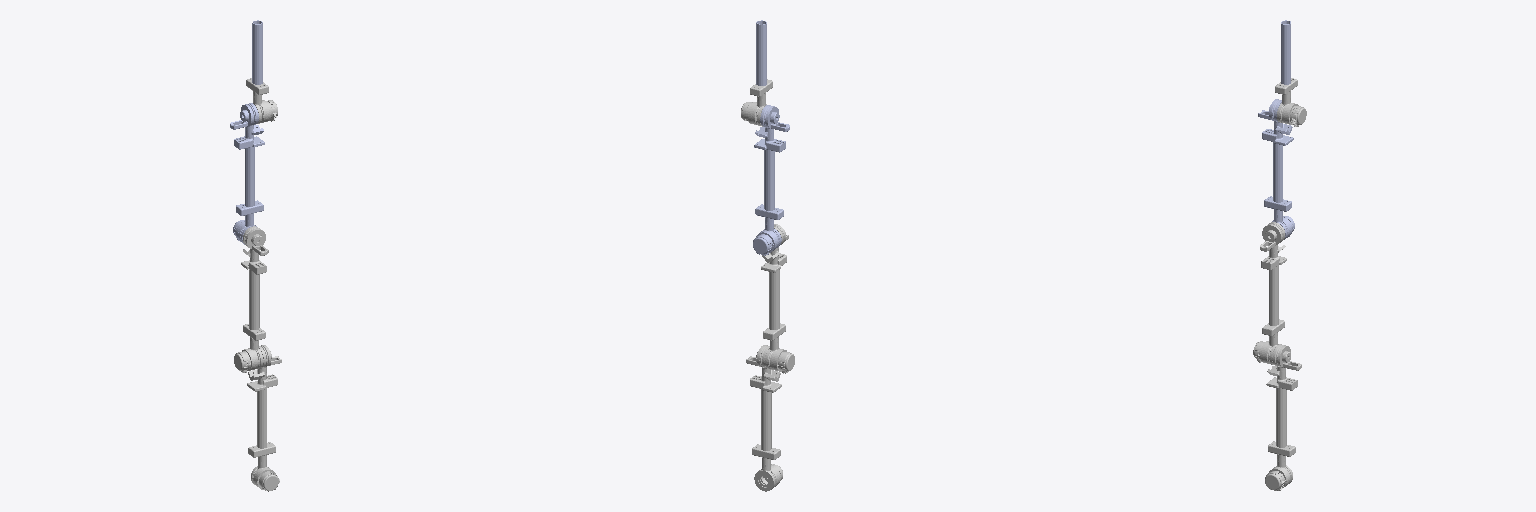
URDF robot description (out2):
<robot
  name="out2">
  <link
    name="base_link">
    <inertial>
      <origin
        xyz="3.81830135287586E-07 0.000490233160051715 0.0680911726169037"
        rpy="0 0 0" />
      <mass
        value="0.0392655917096801" />
      <inertia
        ixx="9.43410382858083E-05"
        ixy="-1.44041094435164E-10"
        ixz="-5.32973135063326E-10"
        iyy="9.35104576671302E-05"
        iyz="-7.06820587107806E-07"
        izz="4.67523617248987E-06" />
    </inertial>
    <visual>
      <origin
        xyz="0 0 0"
        rpy="0 0 0" />
      <geometry>
        <mesh
          filename="package://out2/meshes/base_link.STL" />
      </geometry>
      <material
        name="">
        <color
          rgba="0.792156862745098 0.819607843137255 0.933333333333333 1" />
      </material>
    </visual>
    <collision>
      <origin
        xyz="0 0 0"
        rpy="0 0 0" />
      <geometry>
        <mesh
          filename="package://out2/meshes/base_link.STL" />
      </geometry>
    </collision>
  </link>
  <link
    name="l1">
    <inertial>
      <origin
        xyz="-0.0775363356468722 0.000422757078719242 0.0209719220698855"
        rpy="0 0 0" />
      <mass
        value="0.0481140132679658" />
      <inertia
        ixx="4.25376178264651E-06"
        ixy="9.89719233172601E-07"
        ixz="-3.66991350194768E-06"
        iyy="0.000166336706299027"
        iyz="6.6021107795002E-09"
        izz="0.000167508840406389" />
    </inertial>
    <visual>
      <origin
        xyz="0 0 0"
        rpy="0 0 0" />
      <geometry>
        <mesh
          filename="package://out2/meshes/l1.STL" />
      </geometry>
      <material
        name="">
        <color
          rgba="0.847058823529412 0.847058823529412 0.847058823529412 1" />
      </material>
    </visual>
    <collision>
      <origin
        xyz="0 0 0"
        rpy="0 0 0" />
      <geometry>
        <mesh
          filename="package://out2/meshes/l1.STL" />
      </geometry>
    </collision>
  </link>
  <joint
    name="j1"
    type="fixed">
    <origin
      xyz="0 0.00948960000093205 0.124300000000103"
      rpy="1.5707963267949 1.5707963267949 0" />
    <parent
      link="base_link" />
    <child
      link="l1" />
    <axis
      xyz="0 0 0" />
  </joint>
  <link
    name="l2">
    <inertial>
      <origin
        xyz="-0.0775266421097145 0.00040698713081562 0.0209719226551794"
        rpy="0 0 0" />
      <mass
        value="0.048114013091611" />
      <inertia
        ixx="4.24702973489523E-06"
        ixy="1.05106797568013E-06"
        ixz="-3.67698119293867E-06"
        iyy="0.000166415860643582"
        iyz="1.81256684874256E-08"
        izz="0.000167581262863039" />
    </inertial>
    <visual>
      <origin
        xyz="0 0 0"
        rpy="0 0 0" />
      <geometry>
        <mesh
          filename="package://out2/meshes/l2.STL" />
      </geometry>
      <material
        name="">
        <color
          rgba="0.847058823529412 0.847058823529412 0.847058823529412 1" />
      </material>
    </visual>
    <collision>
      <origin
        xyz="0 0 0"
        rpy="0 0 0" />
      <geometry>
        <mesh
          filename="package://out2/meshes/l2.STL" />
      </geometry>
    </collision>
  </link>
  <joint
    name="j2"
    type="fixed">
    <origin
      xyz="-0.152400000000055 0.00948960000012492 0.0199895999994416"
      rpy="1.57079632677987 6.81298260196904E-18 4.58383439686871E-17" />
    <parent
      link="l1" />
    <child
      link="l2" />
    <axis
      xyz="0 0 0" />
  </joint>
  <link
    name="l3">
    <inertial>
      <origin
        xyz="0.077526636321468 -0.000406452303621498 0.0209719515362998"
        rpy="0 0 0" />
      <mass
        value="0.0481140130743189" />
      <inertia
        ixx="4.24699051210553E-06"
        ixy="1.05330102905974E-06"
        ixz="3.67688985446539E-06"
        iyy="0.00016641680669748"
        iyz="-1.85466771433333E-08"
        izz="0.000167582176419347" />
    </inertial>
    <visual>
      <origin
        xyz="0 0 0"
        rpy="0 0 0" />
      <geometry>
        <mesh
          filename="package://out2/meshes/l3.STL" />
      </geometry>
      <material
        name="">
        <color
          rgba="0.792156862745098 0.819607843137255 0.933333333333333 1" />
      </material>
    </visual>
    <collision>
      <origin
        xyz="0 0 0"
        rpy="0 0 0" />
      <geometry>
        <mesh
          filename="package://out2/meshes/l3.STL" />
      </geometry>
    </collision>
  </link>
  <joint
    name="j3"
    type="fixed">
    <origin
      xyz="-0.152400000000286 0.00948960000089014 0.0199896000011297"
      rpy="-1.57079632680991 4.58383439548628E-17 3.14159265358979" />
    <parent
      link="l2" />
    <child
      link="l3" />
    <axis
      xyz="0 0 0" />
  </joint>
  <link
    name="l4">
    <inertial>
      <origin
        xyz="-0.0186830493415796 -6.20813135235876E-05 0.022135458347231"
        rpy="0 0 0" />
      <mass
        value="0.0220182823322274" />
      <inertia
        ixx="1.98116592302733E-06"
        ixy="1.08305327617486E-08"
        ixz="-8.92033835283855E-07"
        iyy="8.70461098190497E-06"
        iyz="8.64734798578683E-09"
        izz="9.07949191695857E-06" />
    </inertial>
    <visual>
      <origin
        xyz="0 0 0"
        rpy="0 0 0" />
      <geometry>
        <mesh
          filename="package://out2/meshes/l4.STL" />
      </geometry>
      <material
        name="">
        <color
          rgba="0.847058823529412 0.847058823529412 0.847058823529412 1" />
      </material>
    </visual>
    <collision>
      <origin
        xyz="0 0 0"
        rpy="0 0 0" />
      <geometry>
        <mesh
          filename="package://out2/meshes/l4.STL" />
      </geometry>
    </collision>
  </link>
  <joint
    name="j4"
    type="fixed">
    <origin
      xyz="0.152399999999532 -0.00948959999811314 0.0199896000001312"
      rpy="1.5707963267949 9.27091432324333E-16 3.14159265358979" />
    <parent
      link="l3" />
    <child
      link="l4" />
    <axis
      xyz="0 0 0" />
  </joint>
  <link
    name="l5">
    <inertial>
      <origin
        xyz="-0.0762000000004666 1.17961196366423E-16 0.0199896000000001"
        rpy="0 0 0" />
      <mass
        value="0.00263328296223896" />
      <inertia
        ixx="8.03151303482884E-08"
        ixy="8.94418173979679E-22"
        ixz="2.14569496371279E-22"
        iyy="1.31432419211271E-06"
        iyz="6.80873041709125E-25"
        izz="1.31432419211271E-06" />
    </inertial>
    <visual>
      <origin
        xyz="0 0 0"
        rpy="0 0 0" />
      <geometry>
        <mesh
          filename="package://out2/meshes/l5.STL" />
      </geometry>
      <material
        name="">
        <color
          rgba="0.792156862745098 0.819607843137255 0.933333333333333 1" />
      </material>
    </visual>
    <collision>
      <origin
        xyz="0 0 0"
        rpy="0 0 0" />
      <geometry>
        <mesh
          filename="package://out2/meshes/l5.STL" />
      </geometry>
    </collision>
  </link>
  <joint
    name="g5"
    type="fixed">
    <origin
      xyz="0 0 0"
      rpy="0 0 0" />
    <parent
      link="l4" />
    <child
      link="l5" />
    <axis
      xyz="0 0 0" />
  </joint>
</robot>

--- What the picture shows (computed from the rendered views, not written in the file) ---
Views: 3 orthographic renders of the robot side by side, from view 1: azimuth 30°, elevation 25°; view 2: azimuth 150°, elevation 25°; view 3: azimuth 330°, elevation 25°.
Robot: out2 — 6 links, 5 joints (5 fixed); root link base_link; default pose: every joint at zero.
Visible links, largest first — view 1: l2, l1, l3, l4, l5; view 2: l3, l1, l2, l4, l5; view 3: l1, l2, l3, l4, l5.
Boxes of the visible links, x1,y1,x2,y2 form: l2: [234, 226, 268, 372]; l1: [247, 345, 281, 491]; l3: [230, 103, 264, 244]; l4: [246, 78, 277, 123]; l5: [252, 20, 262, 84]; l3: [753, 105, 789, 255]; l1: [746, 345, 782, 491]; l2: [761, 224, 794, 373]; l4: [741, 79, 772, 126]; l5: [756, 20, 766, 85]; l1: [1265, 344, 1301, 490]; l2: [1253, 222, 1286, 364]; l3: [1258, 99, 1294, 239]; l4: [1275, 78, 1306, 126]; l5: [1281, 20, 1290, 84].
Bounding box of the posed robot: 0.0586 × 0.0566 × 0.5842 m (x, y, z).
Meshes: 6 distinct files referenced, 5 mesh visuals loaded (5 binary STL); not drawn: 1 (reference not matched to a file when rendering).
